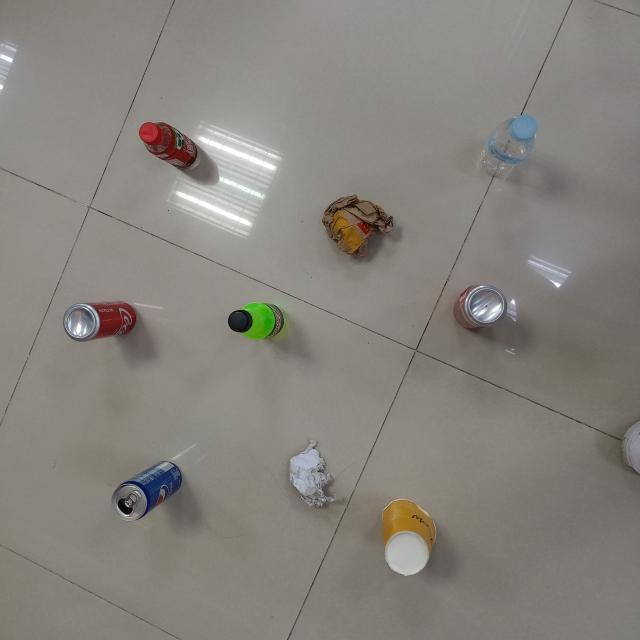recyclable waste: (374, 490, 443, 580), (104, 454, 190, 526), (318, 190, 397, 262), (472, 109, 544, 183), (284, 434, 344, 514), (58, 295, 142, 346), (134, 115, 203, 173), (225, 295, 293, 348), (448, 280, 513, 334)
